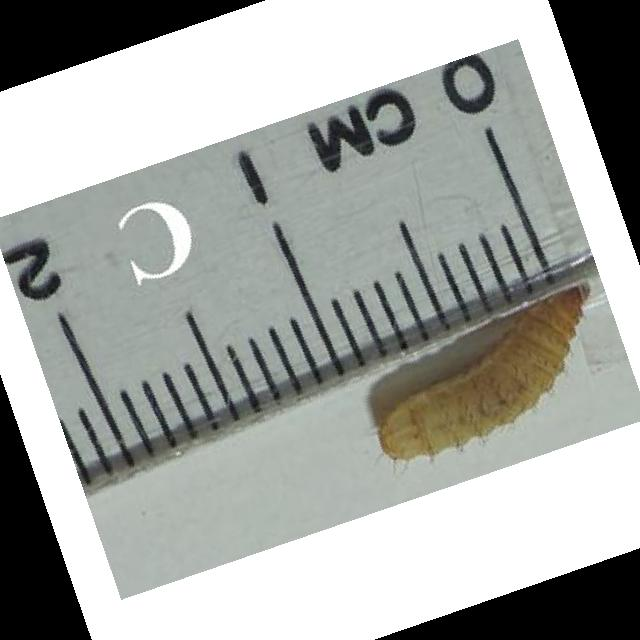Maggot: (375, 279, 597, 461)
